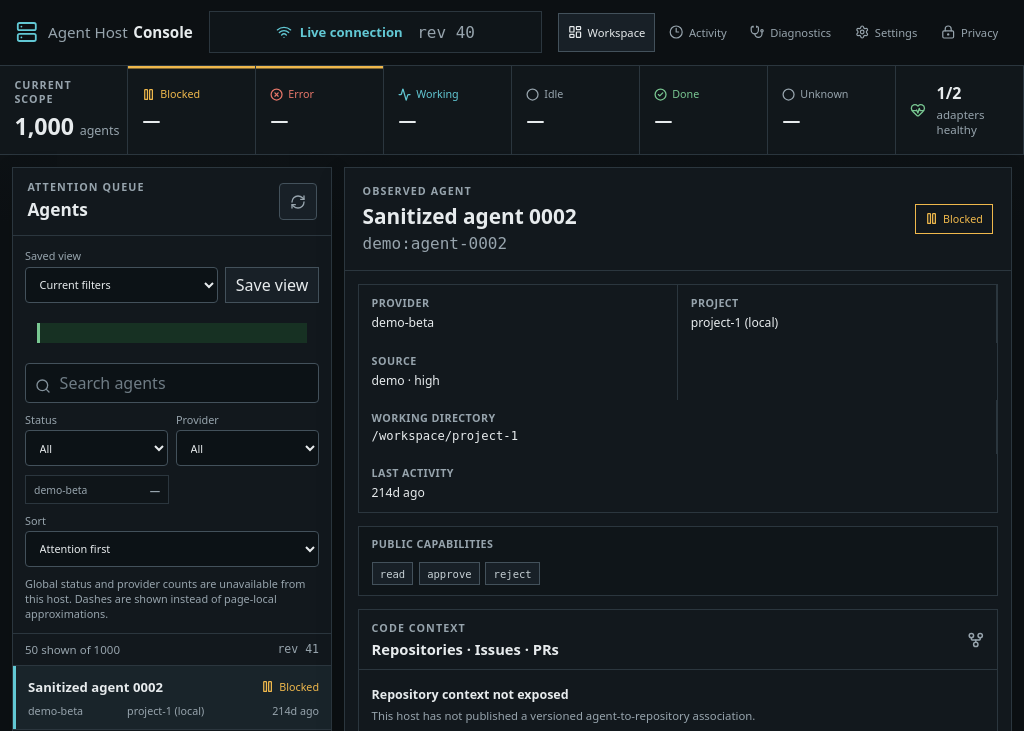
evaluation dashboard › does not replay attention events that occurred before notification opt-in
Expected: the text "50 shown of 1000" is shown, [25, 642, 120, 657]
Click the button "Settings" at (886, 32), box [845, 13, 927, 52]
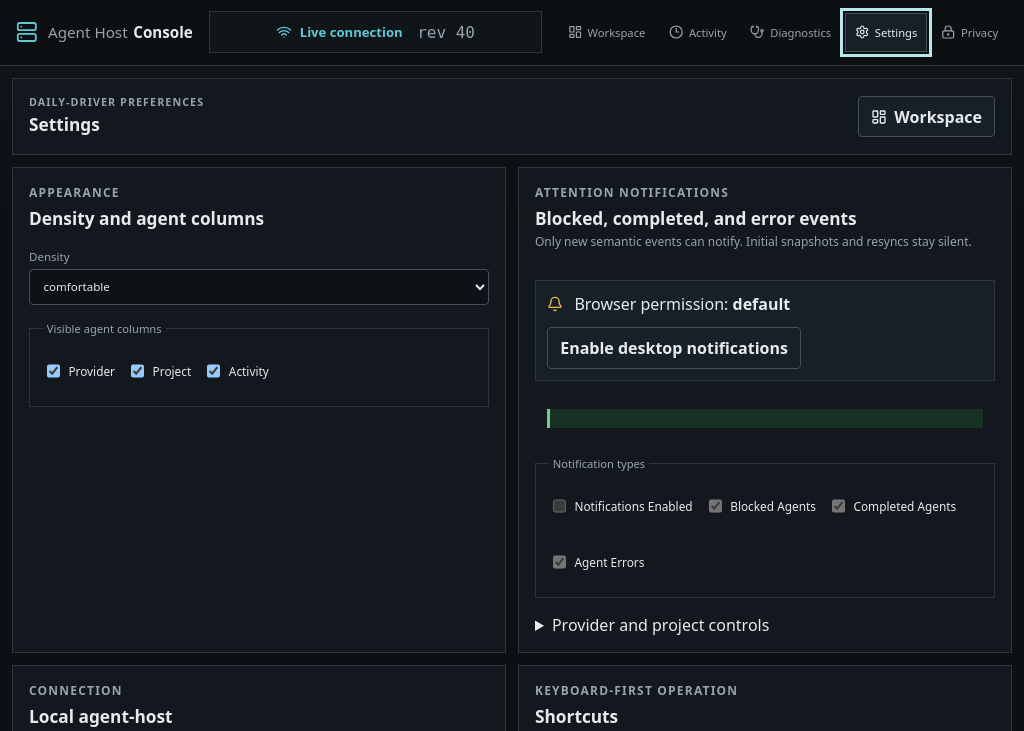
Click the button "Enable desktop notifications" at (674, 348), box [547, 327, 801, 368]
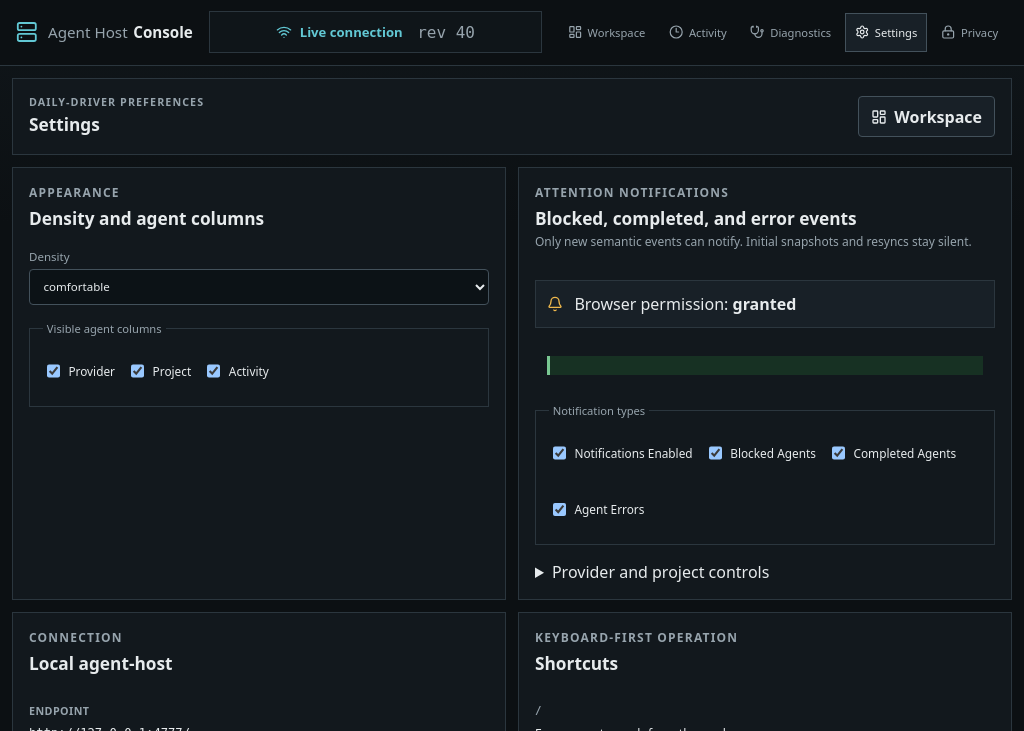
Now the text "Browser permission: granted" is shown, box [574, 293, 796, 315]
